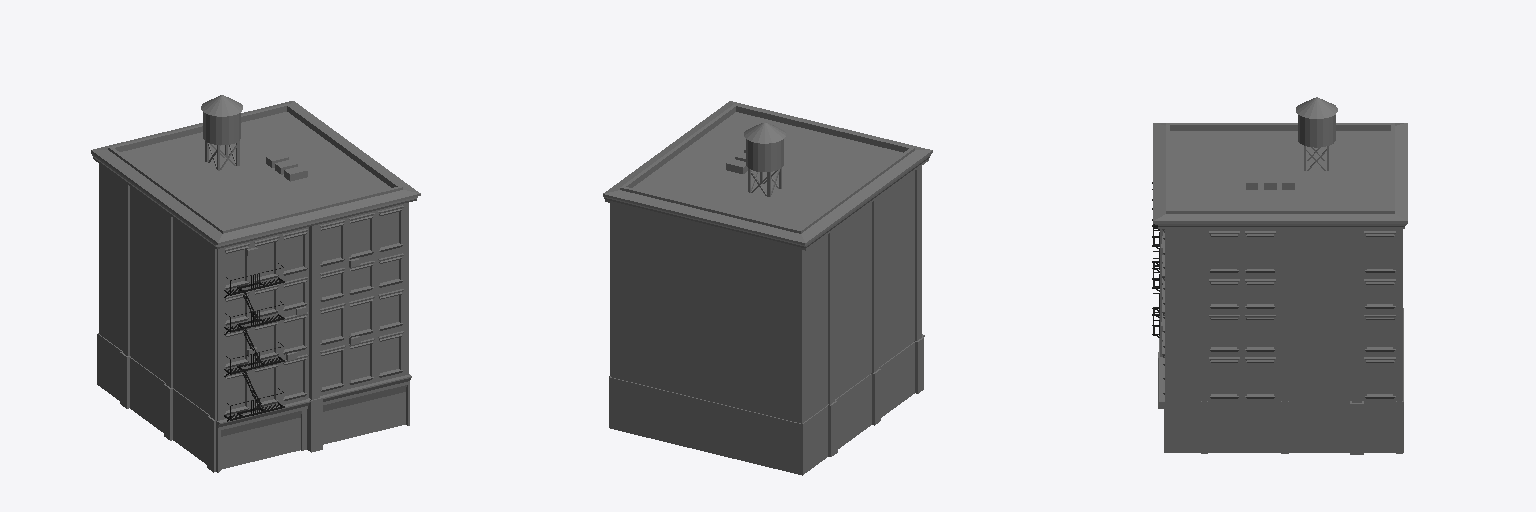
The model's file is building07.obj.
3 views of the same model, side by side, from view 1: azimuth 30°, elevation 25°; view 2: azimuth 150°, elevation 25°; view 3: azimuth 270°, elevation 25° (orthographic).
Visible parts, largest first — view 1: K_BuildingsA_001, K_BuildingsA_002, K_BuildingsA_005, K_BuildingsA_003, K_BuildingsA_004, K_BuildingsA_008, K_BuildingsA_009, K_BuildingsA_006; view 2: K_BuildingsA_007, K_BuildingsA_002, K_BuildingsA_005, K_BuildingsA_003, K_BuildingsA_001, K_BuildingsA_006; view 3: K_BuildingsA_002, K_BuildingsA_001, K_BuildingsA_005, K_BuildingsA_003, K_BuildingsA_006, K_BuildingsA_009.
Boxes of the visible parts, box(x1,y1,x2,y2) form: K_BuildingsA_001: box(91, 150, 420, 420); K_BuildingsA_002: box(99, 103, 402, 420); K_BuildingsA_005: box(92, 95, 420, 242); K_BuildingsA_003: box(97, 333, 411, 472); K_BuildingsA_004: box(221, 392, 405, 469); K_BuildingsA_008: box(224, 263, 284, 421); K_BuildingsA_009: box(246, 153, 360, 360); K_BuildingsA_006: box(203, 112, 240, 144); K_BuildingsA_007: box(611, 203, 801, 423); K_BuildingsA_002: box(610, 104, 921, 423); K_BuildingsA_005: box(603, 101, 931, 242); K_BuildingsA_003: box(609, 334, 924, 475); K_BuildingsA_001: box(603, 150, 932, 250); K_BuildingsA_006: box(746, 139, 783, 171); K_BuildingsA_002: box(1160, 123, 1401, 402); K_BuildingsA_001: box(1153, 221, 1407, 401); K_BuildingsA_005: box(1153, 97, 1407, 220); K_BuildingsA_003: box(1158, 308, 1403, 454); K_BuildingsA_006: box(1298, 115, 1335, 147); K_BuildingsA_009: box(1161, 175, 1294, 331).
Bounding box in the file's own units: 13.69 × 19.44 × 14.94.